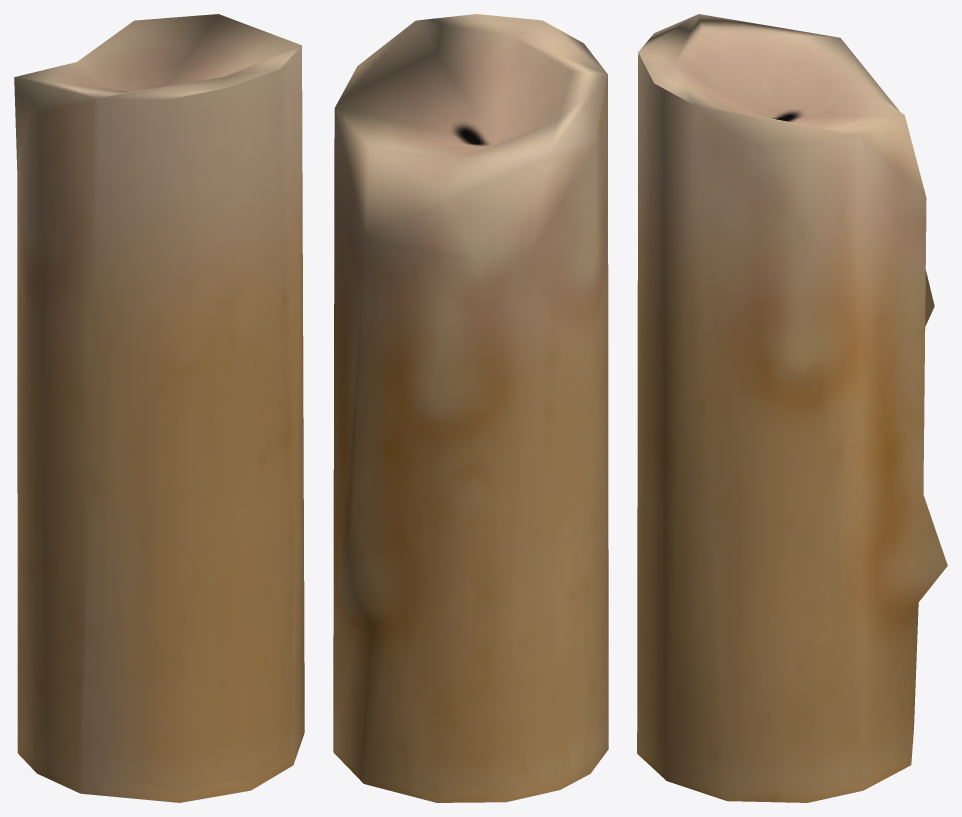
File: SM_Candles_002.fbx
3 views of the same model, side by side, from view 1: azimuth 30°, elevation 25°; view 2: azimuth 150°, elevation 25°; view 3: azimuth 270°, elevation 25° (orthographic). The views are drawn at different scales.
Visible parts, largest first — view 1: SM_Candles_002_LOD0; view 2: SM_Candles_002_LOD0; view 3: SM_Candles_002_LOD0.
Part boxes in pixels (x1,y1,x2,y2): SM_Candles_002_LOD0: (14,14,304,802); SM_Candles_002_LOD0: (333,14,608,802); SM_Candles_002_LOD0: (637,14,947,802).
Bounding box in the file's own units: 2.61 × 2.79 × 6.84.
1 material, 1 textured.
